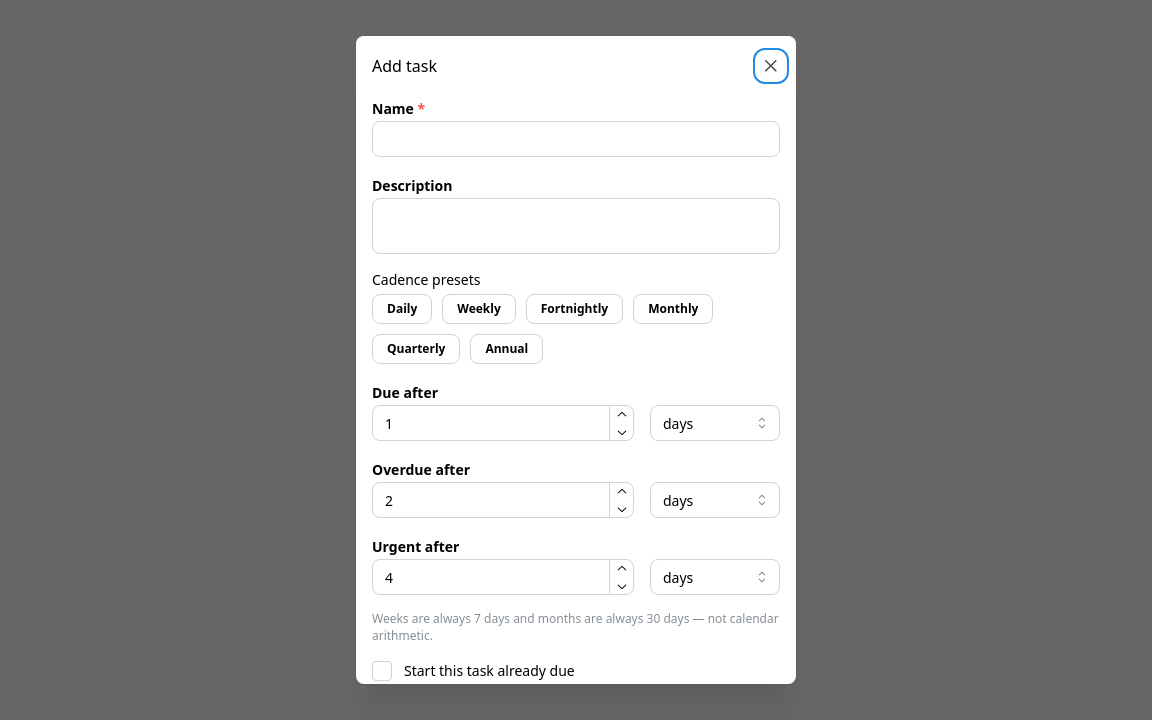
TaskFormModal auto-fill › stops auto-filling a field once the user edits it directly
Clear the field labelled "Overdue after": (503, 500) [372,482,634,518]
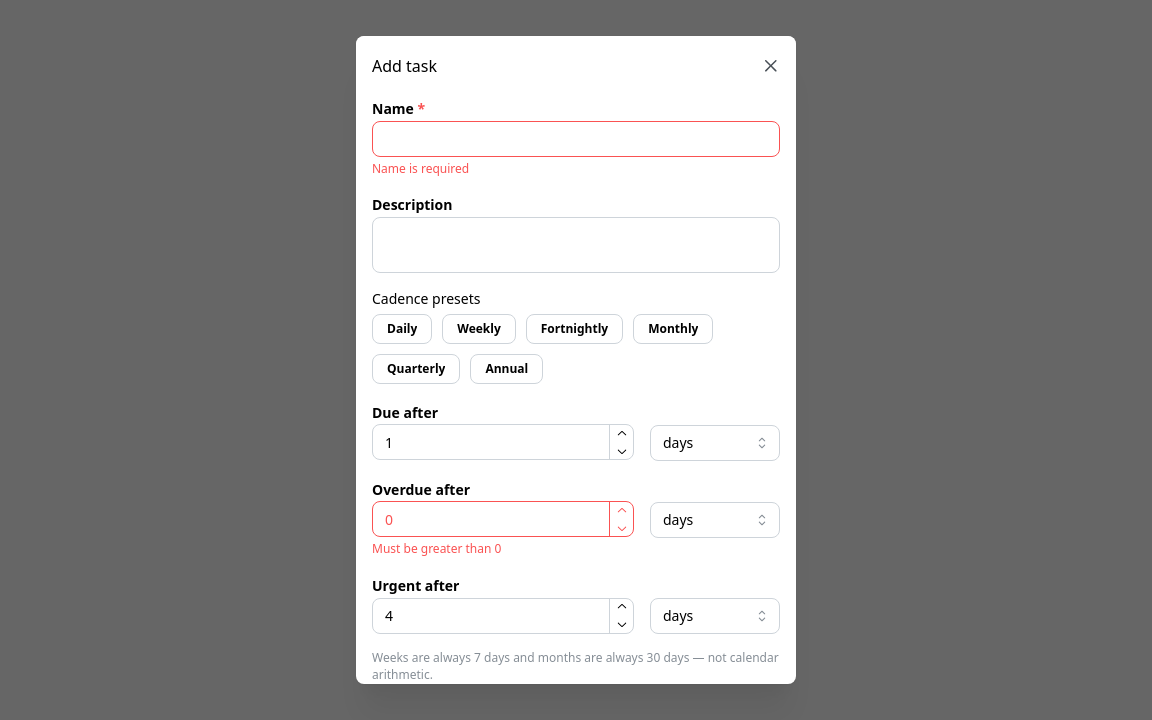
In the field labelled "Overdue after": (503, 520) [372,502,634,538], type "10"
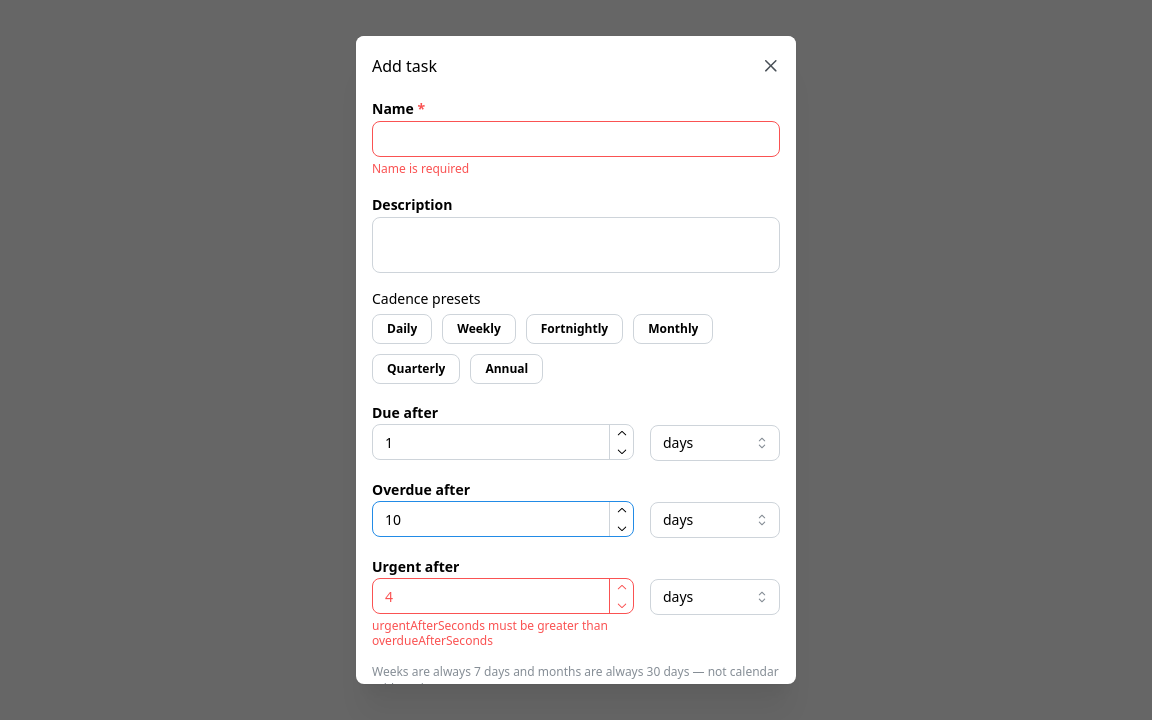
Replace the text in the field labelled "Due after" with "3": (503, 442) [372,424,634,460]
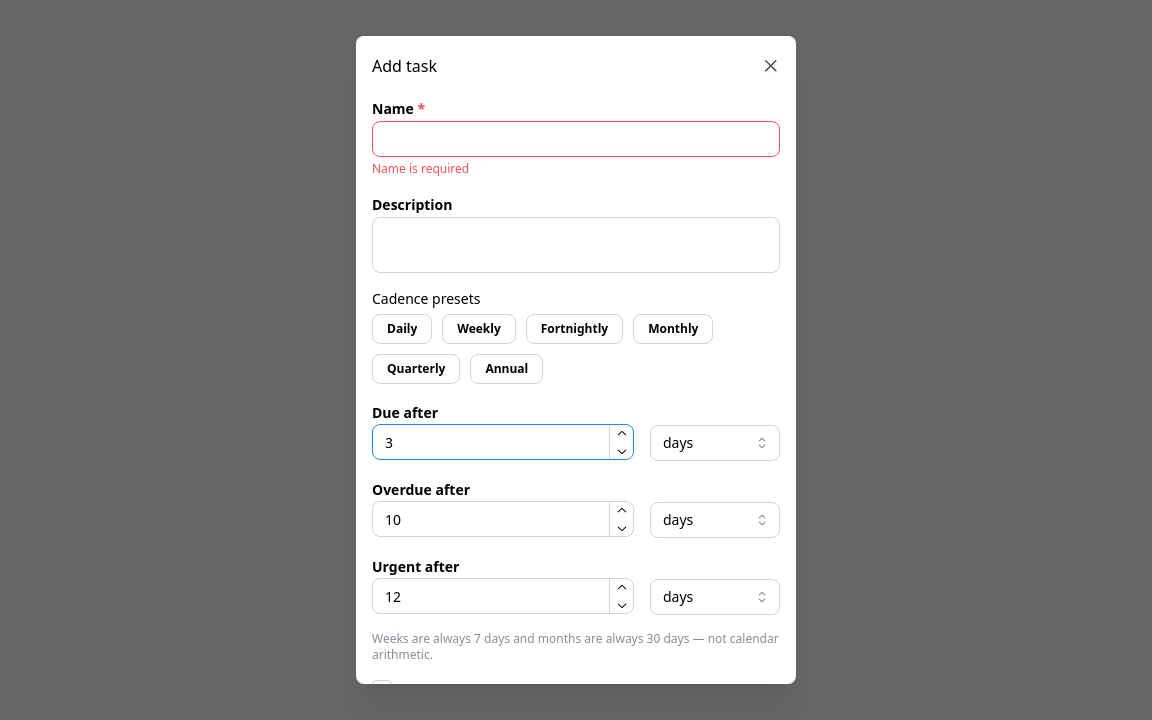
Expected: the field labelled "Urgent after" holds "12", [372,578,634,614]
